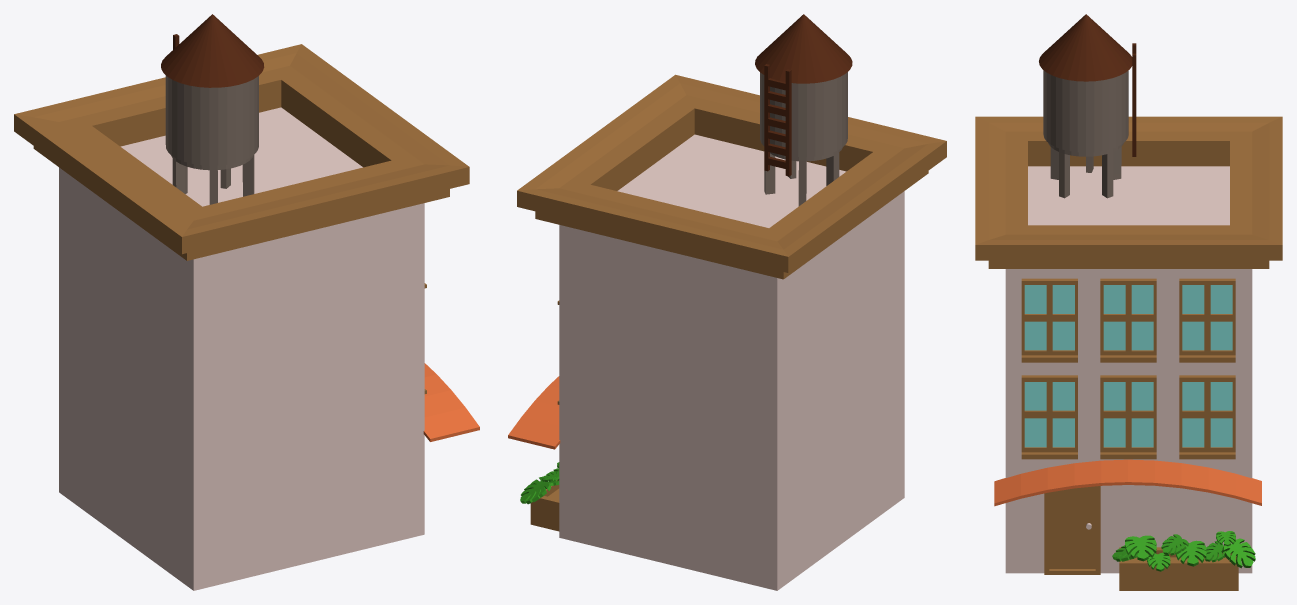
Rendered from apartment.fbx.
3 views of the same model, side by side, from view 1: azimuth 30°, elevation 25°; view 2: azimuth 150°, elevation 25°; view 3: azimuth 270°, elevation 25° (orthographic). The views are drawn at different scales.
Visible parts, largest first — view 1: Cube.003; view 2: Cube.003; view 3: Cube.003.
Part boxes in pixels (x1,y1,x2,y2): Cube.003: (14,14,479,590); Cube.003: (508,14,946,590); Cube.003: (975,14,1282,590).
Bounding box in the file's own units: 2917 × 4739 × 2720.
